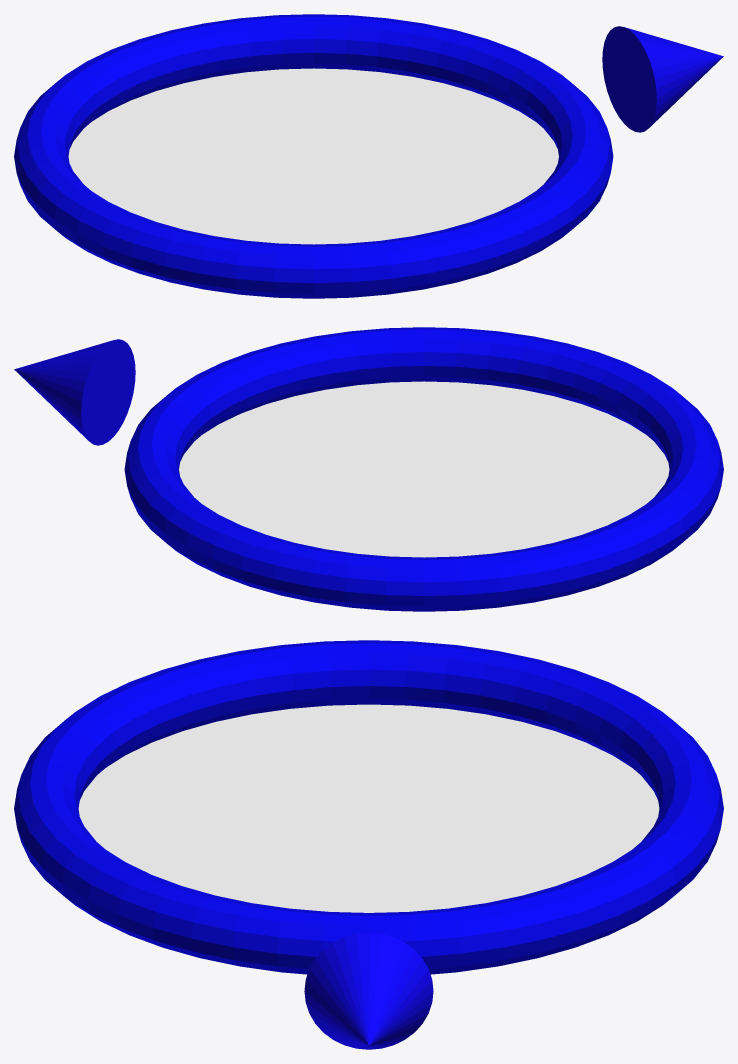
Rendered from RobotMarkerBLUE.fbx.
3 renders of one model, top to bottom at view 1: azimuth 30°, elevation 25°; view 2: azimuth 150°, elevation 25°; view 3: azimuth 270°, elevation 25°, orthographic. The views are drawn at different scales.
Visible parts, largest first — view 1: marker.001, arrow.001; view 2: marker.001, arrow.001; view 3: marker.001, arrow.001.
Boxes of the visible parts, x1,y1,x2,y2 form: marker.001: (14, 14, 613, 298); arrow.001: (602, 26, 723, 132); marker.001: (124, 327, 723, 611); arrow.001: (14, 339, 135, 445); marker.001: (14, 640, 723, 974); arrow.001: (304, 933, 433, 1049).
Bounding box in the file's own units: 0.1845 × 0.026 × 0.143.
